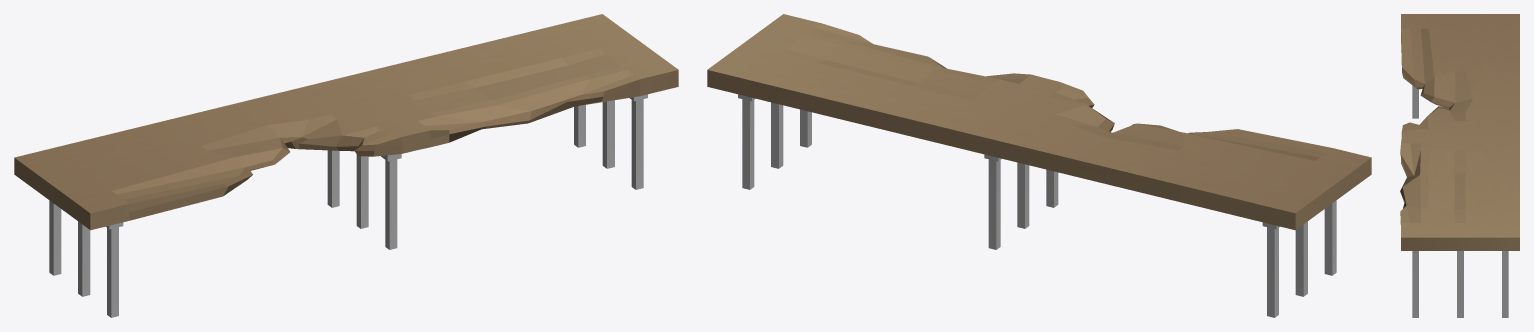
Rendered from table_1.glb.
3 views of the same model, side by side, from view 1: azimuth 30°, elevation 25°; view 2: azimuth 150°, elevation 25°; view 3: azimuth 270°, elevation 25° (orthographic). The views are drawn at different scales.
Visible parts, largest first — view 1: table_1; view 2: table_1; view 3: table_1.
Boxes of the visible parts, box(x1,y1,x2,y2) form: table_1: box(14, 14, 678, 317); table_1: box(707, 14, 1371, 317); table_1: box(1400, 14, 1519, 317).
Size of the model in its own units: 3.52 by 0.6669 by 0.7967.
1 material, 1 textured.
